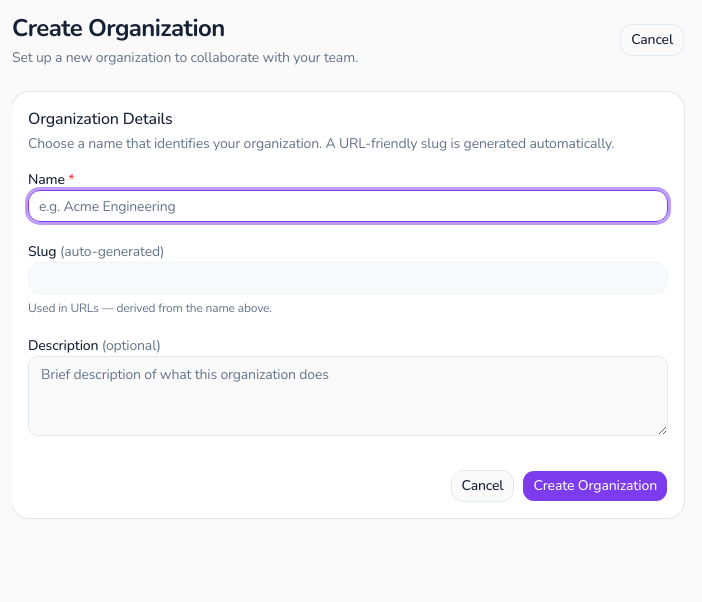
Test: NewOrgClient › shows a joined error message when ApiError body.message is an array
The image size is (702, 602).
Type "X" into the field labelled "Name *".
click(348, 206); type("X")  # box [28, 190, 668, 222]
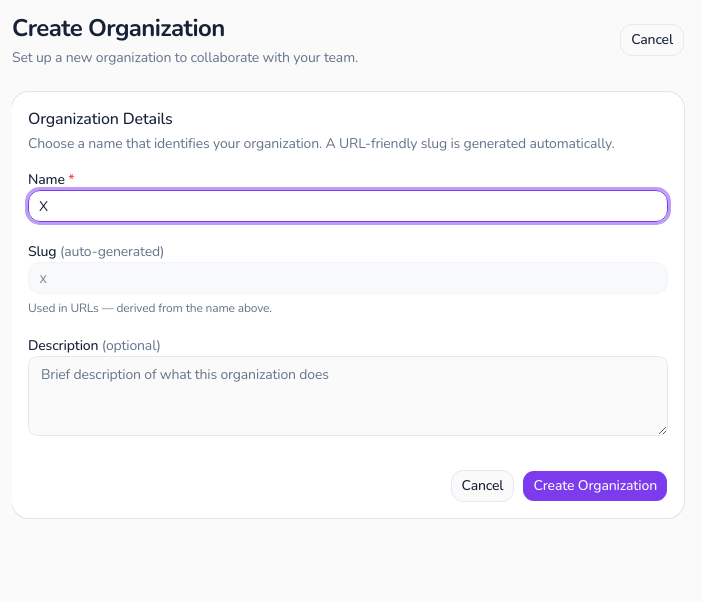
Click the button "Create Organization".
click(595, 486)  # box [522, 470, 668, 502]
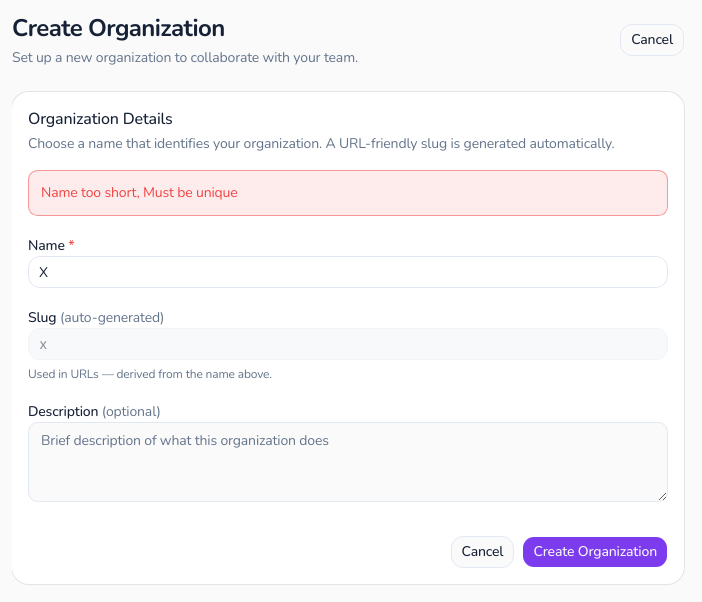
Now the text "Name too short, Must be unique" is shown, box [28, 170, 668, 216]
